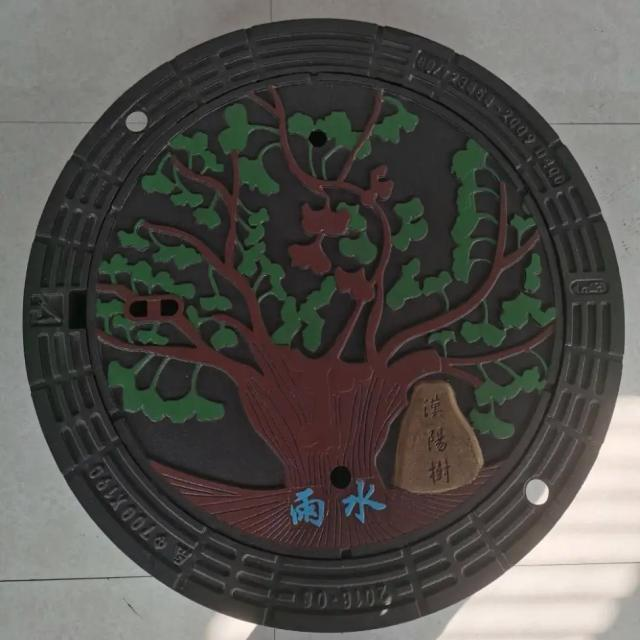manhole: (25, 20, 624, 631)
